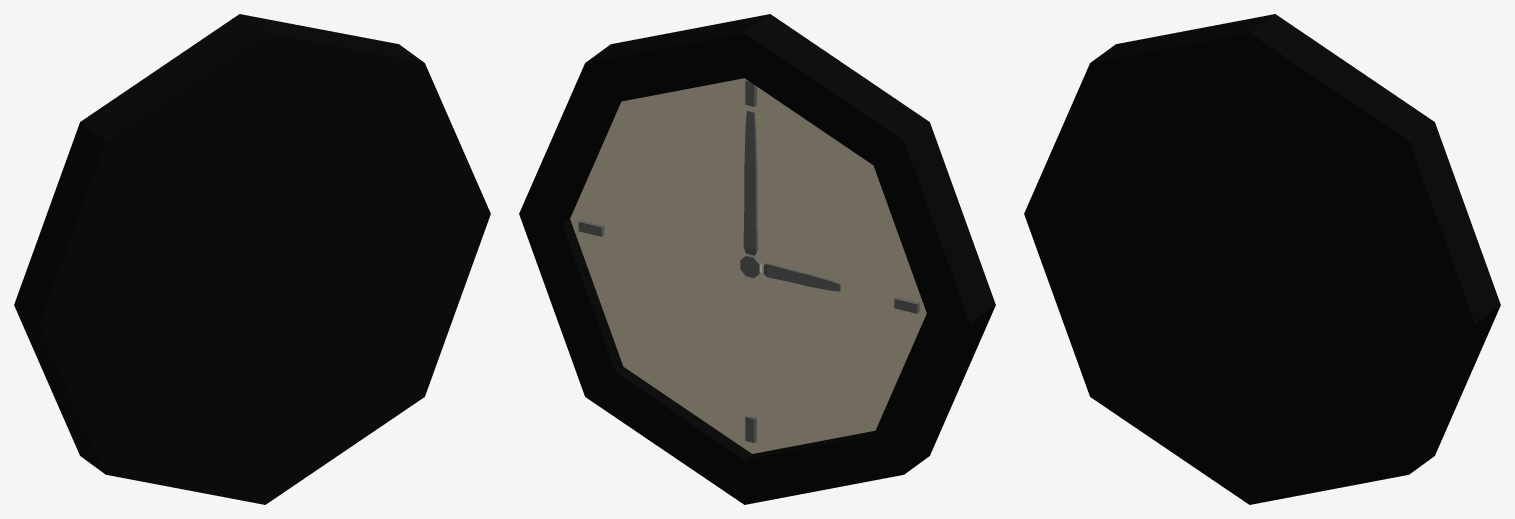
The model's file is clock.fbx.
3 renders of one model, left to right at view 1: azimuth 30°, elevation 25°; view 2: azimuth 150°, elevation 25°; view 3: azimuth 330°, elevation 25°, orthographic.
Visible parts, largest first — view 1: Cylinder; view 2: Cylinder, Cube.004, Cube.005; view 3: Cylinder.
Part boxes in pixels (x1,y1,x2,y2): Cylinder: (14, 14, 490, 504); Cylinder: (519, 14, 995, 504); Cube.004: (743, 110, 757, 255); Cube.005: (764, 263, 840, 291); Cylinder: (1024, 14, 1500, 504).
Size of the model in its own units: 200 by 200 by 19.77.
